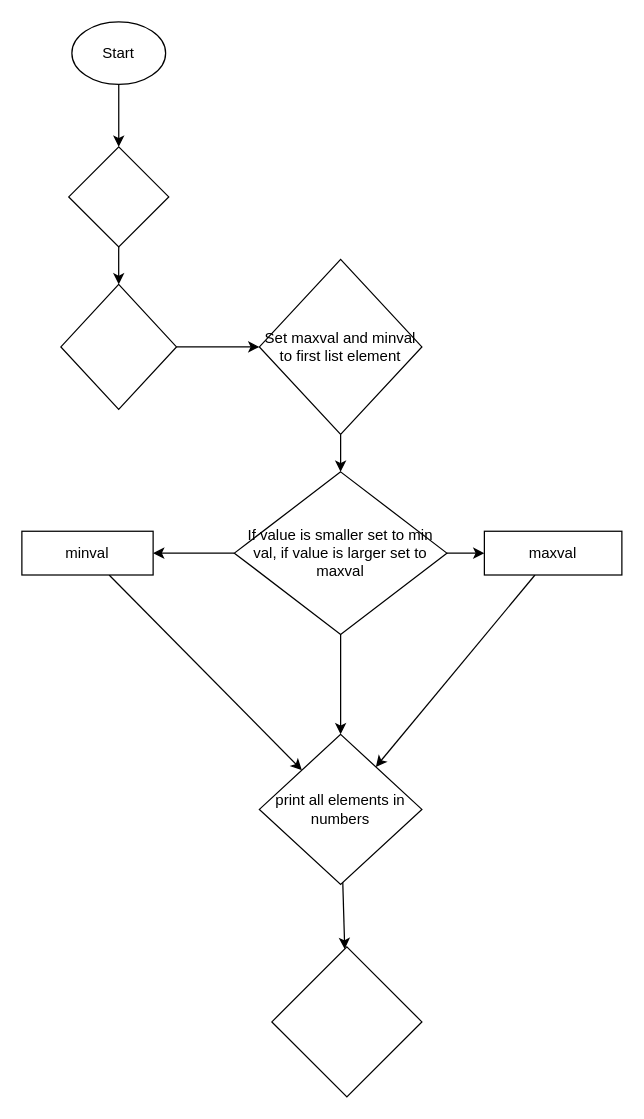
Some shapes in this 644 by 1119 pixel diagram are drawn without their labels. Here are the shapes that lost their labels. From the top down, the centre of each, then its label:
the point at 118,196: Input values
the point at 118,346: Add input values to list
the point at 346,1021: print minval and maxval
